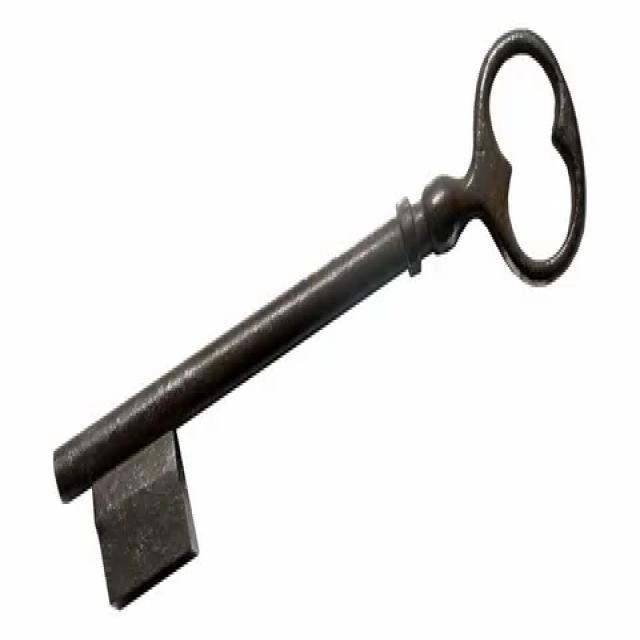key: (46, 0, 597, 640)
